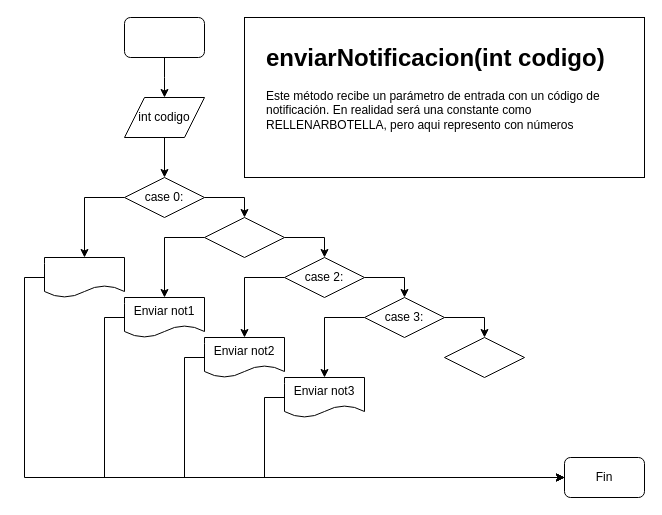
The diagram is 662 pixels wide and 515 high, and some of its shapes have lost their labels. Each missing label, with the centre of its shape:
"case 1:" goes at (x=244, y=237).
"case X:" goes at (x=484, y=357).
"Enviar not0" goes at (x=84, y=277).
"Inicio" goes at (x=164, y=37).
